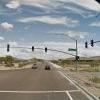Traffic light: (23, 40, 56, 58)
